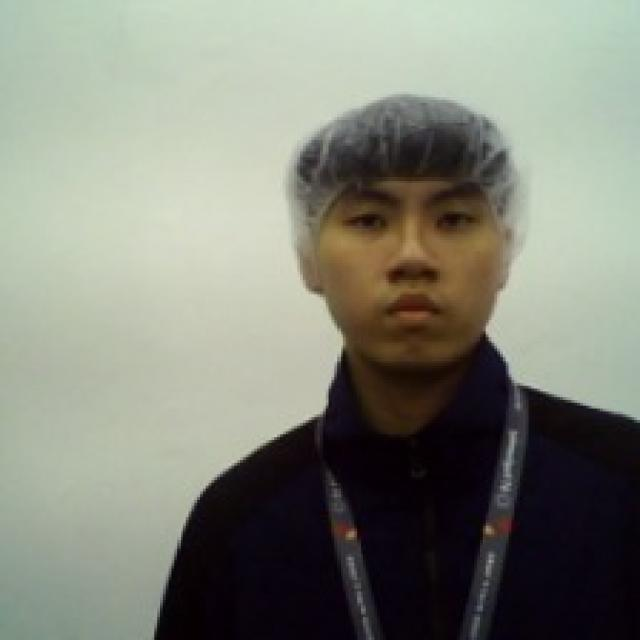gloves: (292, 86, 532, 308)
no_hairnet: (304, 188, 514, 372)
